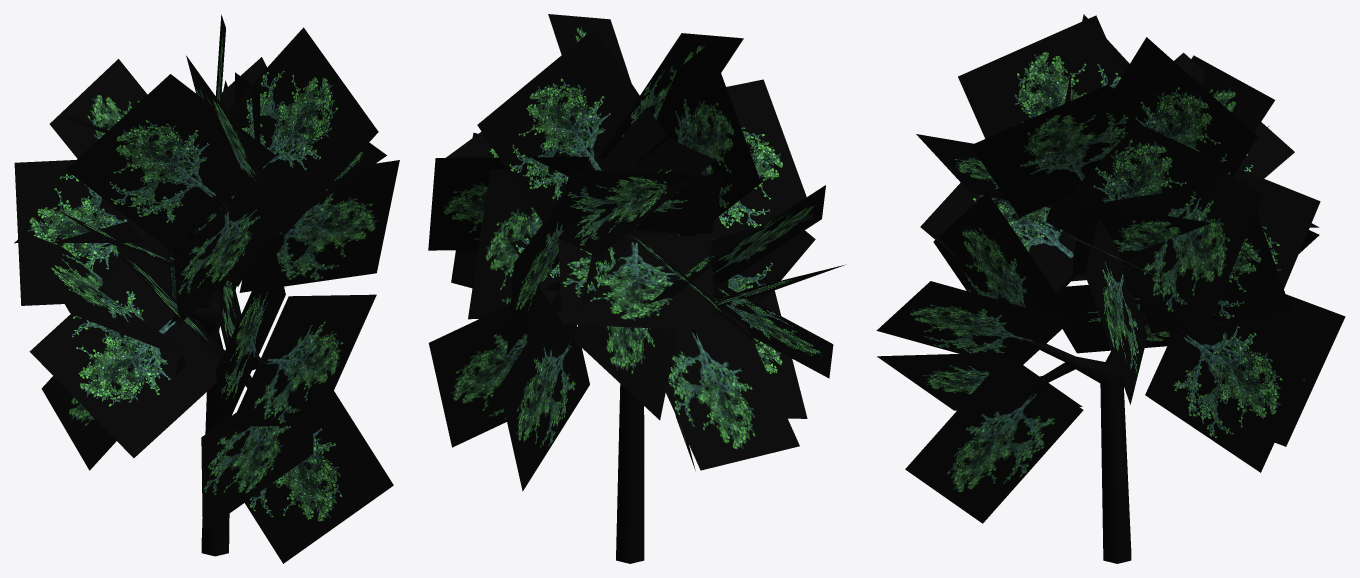
Rendered from tree51.glb.
The picture shows the model from 3 angles, left to right: view 1: azimuth 30°, elevation 25°; view 2: azimuth 150°, elevation 25°; view 3: azimuth 270°, elevation 25°; orthographic projection. The views are drawn at different scales.
Bounding box in the file's own units: 4.99 × 6.88 × 5.52.
2 materials, 1 textured.
